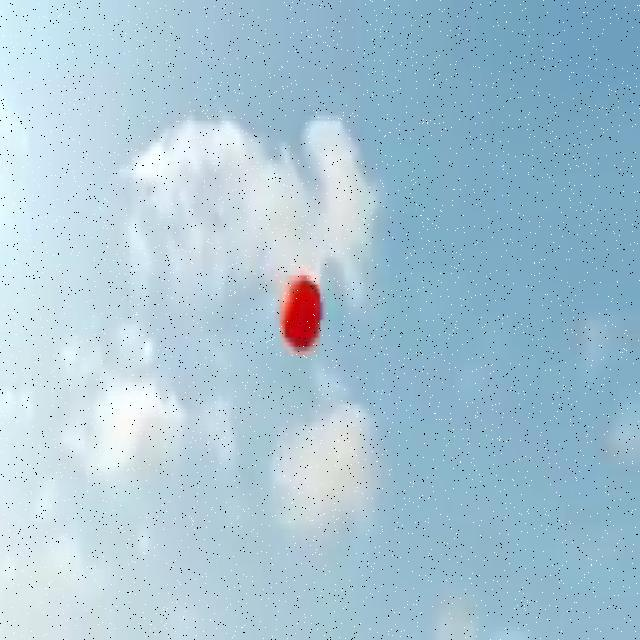red: (278, 271, 322, 356)
